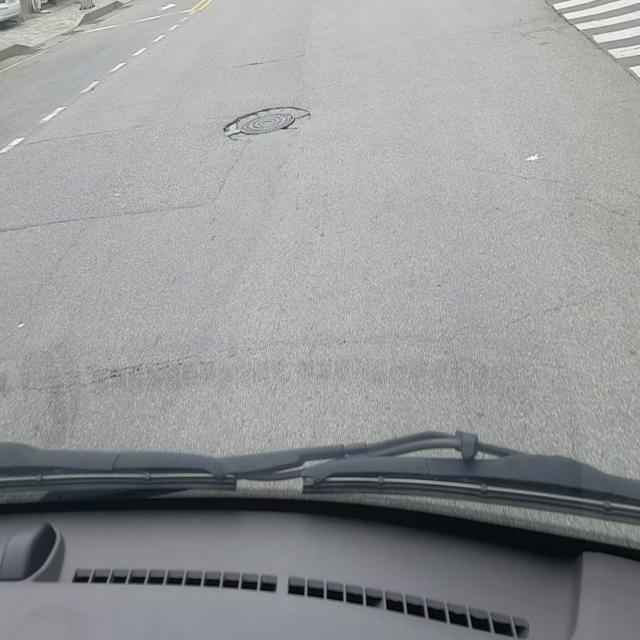Pothole: (220, 102, 314, 144)
